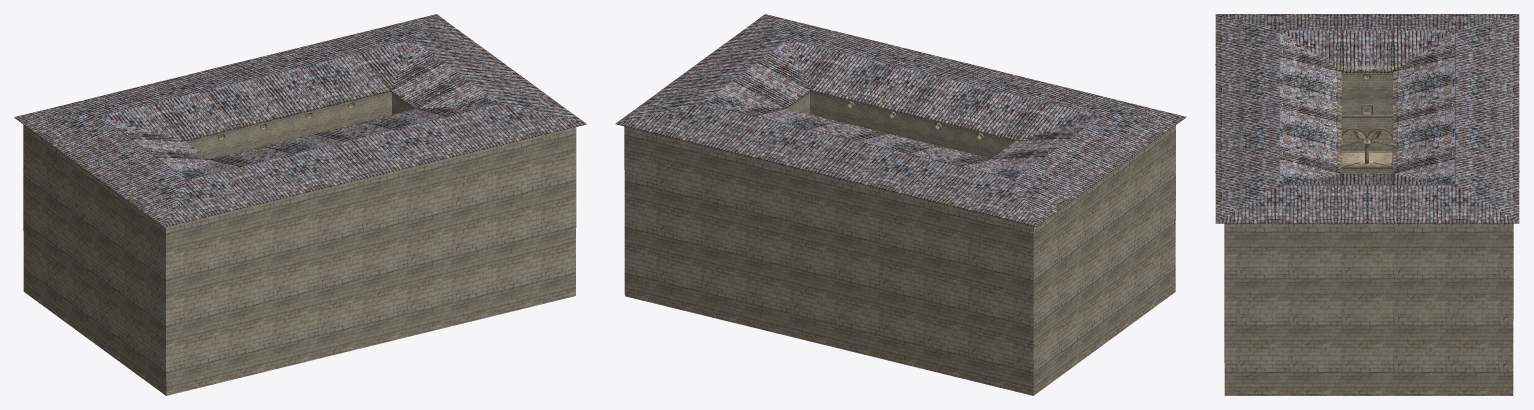
File: sponza.obj
3 renders of one model, left to right at view 1: azimuth 30°, elevation 25°; view 2: azimuth 150°, elevation 25°; view 3: azimuth 270°, elevation 25°, orthographic.
Visible parts, largest first — view 1: sponza_00; view 2: sponza_00; view 3: sponza_00.
Boxes of the visible parts, x1,y1,x2,y2 form: sponza_00: (14, 14, 586, 395); sponza_00: (615, 14, 1186, 395); sponza_00: (1215, 14, 1519, 395).
Bounding box in the file's own units: 3720 × 1555 × 2288.
25 materials, 25 textured.
